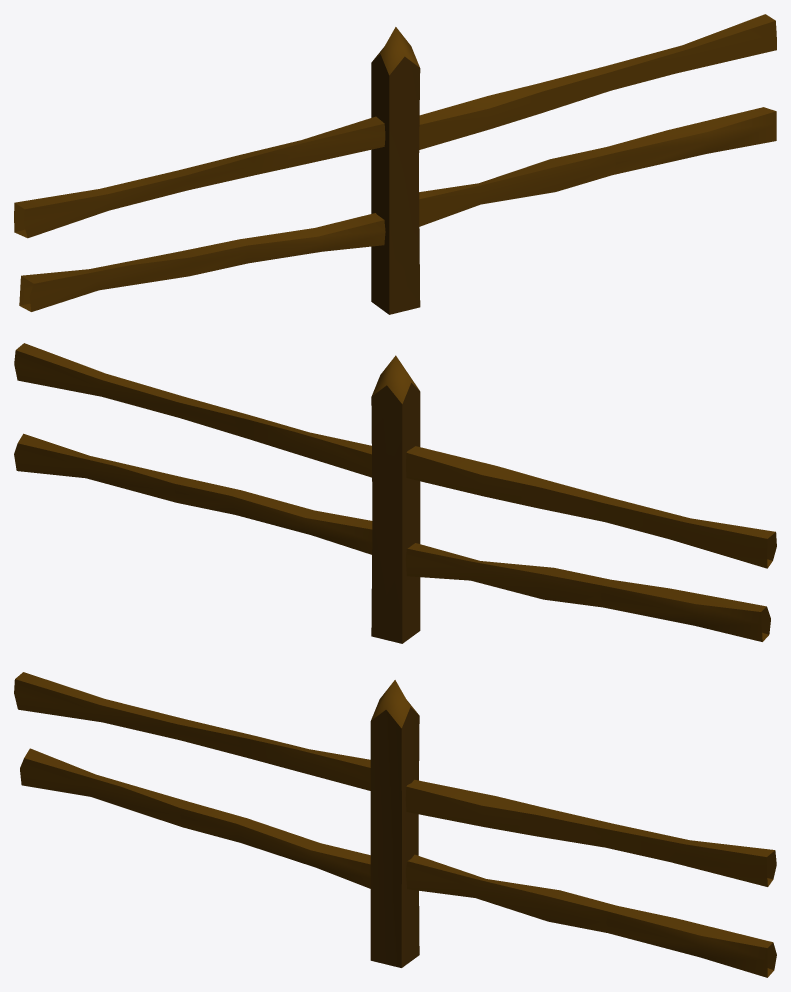
The model's file is fence.fbx.
3 views of the same model, one above another, from view 1: azimuth 30°, elevation 25°; view 2: azimuth 150°, elevation 25°; view 3: azimuth 330°, elevation 25° (orthographic).
Visible parts, largest first — view 1: polySurface151; view 2: polySurface151; view 3: polySurface151.
Part boxes in pixels (x1,y1,x2,y2): polySurface151: [14, 14, 776, 314]; polySurface151: [14, 343, 776, 643]; polySurface151: [14, 672, 776, 977].
Bounding box in the file's own units: 27.85 × 9.83 × 1.25.
